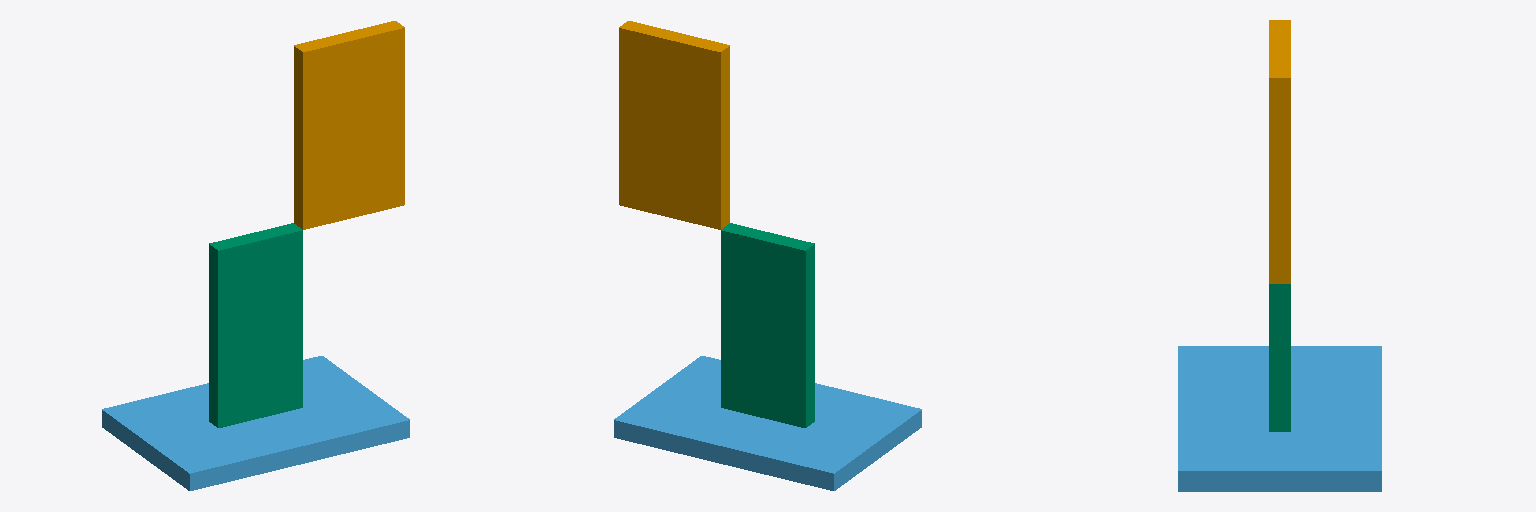
URDF robot description (test5):
<?xml version="1.0" ?>
<robot name="test5">

<material name="silver">
  <color rgba="0.700 0.700 0.700 1.000"/>
</material>

<link name="base_link">
  <inertial>
    <origin xyz="0.0763591487784454 -0.0014896945979451695 -0.023761362030784862" rpy="0 0 0"/>
    <mass value="0.058875"/>
    <inertia ixx="1.2388281250019541e-05" iyy="1.668125000000724e-05" izz="4.538281249999584e-06" ixy="-4.463863632030163e-19" iyz="2.278518628114068e-19" ixz="-8.538092108323347e-19"/>
  </inertial>
  <visual>
    <origin xyz="0 0 0" rpy="0 0 0"/>
    <geometry>
      <mesh filename="meshes/base_link.stl" scale="0.001 0.001 0.001"/>
    </geometry>
    <material name="silver"/>
    <material/>
  </visual>
  <collision>
    <origin xyz="0 0 0" rpy="0 0 0"/>
    <geometry>
      <mesh filename="meshes/base_link.stl" scale="0.001 0.001 0.001"/>
    </geometry>
  </collision>
</link>

<link name="Component51">
  <inertial>
    <origin xyz="1.4877844522337424e-07 3.0540205486415117e-07 -0.002500362030784492" rpy="0 0 0"/>
    <mass value="0.1148062534214929"/>
    <inertia ixx="1.961273553688185e-05" iyy="4.066054929142949e-05" izz="5.979492543905525e-05" ixy="-3.049318610115481e-20" iyz="-3.3881317890172014e-21" ixz="1.0842021724855044e-19"/>
  </inertial>
  <visual>
    <origin xyz="-0.048859 0.00149 0.098761" rpy="0 0 0"/>
    <geometry>
      <mesh filename="meshes/Component51.stl" scale="0.001 0.001 0.001"/>
    </geometry>
    <material name="silver"/>
    <material/>
  </visual>
  <collision>
    <origin xyz="-0.048859 0.00149 0.098761" rpy="0 0 0"/>
    <geometry>
      <mesh filename="meshes/Component51.stl" scale="0.001 0.001 0.001"/>
    </geometry>
  </collision>
</link>

<link name="Component41">
  <inertial>
    <origin xyz="-0.012499851221554809 3.0540205485265863e-07 -0.02500036203078461" rpy="0 0 0"/>
    <mass value="0.049062499999999995"/>
    <inertia ixx="1.032356770833343e-05" iyy="1.2776692708333065e-05" izz="2.657552083333353e-06" ixy="6.860966872759833e-20" iyz="-1.2705494208814505e-20" ixz="-1.0842021724855044e-19"/>
  </inertial>
  <visual>
    <origin xyz="-0.061359 0.00149 0.048761" rpy="0 0 0"/>
    <geometry>
      <mesh filename="meshes/Component41.stl" scale="0.001 0.001 0.001"/>
    </geometry>
    <material name="silver"/>
    <material/>
  </visual>
  <collision>
    <origin xyz="-0.061359 0.00149 0.048761" rpy="0 0 0"/>
    <geometry>
      <mesh filename="meshes/Component41.stl" scale="0.001 0.001 0.001"/>
    </geometry>
  </collision>
</link>

<joint name="Rigid_6" type="fixed">
  <origin xyz="-0.0125 0.0 -0.05" rpy="0 0 0"/>
  <parent link="Component41"/>
  <child link="Component51"/>
</joint>

<joint name="Revolute_8" type="continuous">
  <origin xyz="0.061359 -0.00149 -0.048761" rpy="0 0 0"/>
  <parent link="base_link"/>
  <child link="Component41"/>
  <axis xyz="-0.0 -1.0 0.0"/>
</joint>
<transmission name="Revolute_8_tran">
  <type>transmission_interface/SimpleTransmission</type>
  <joint name="Revolute_8">
    <hardwareInterface>PositionJointInterface</hardwareInterface>
  </joint>
  <actuator name="Revolute_8_actr">
    <hardwareInterface>PositionJointInterface</hardwareInterface>
    <mechanicalReduction>1</mechanicalReduction>
  </actuator>
</transmission>

</robot>

--- Facts derived from the render (not from the file) ---
3 views of the same robot in one strip: view 1: azimuth 30°, elevation 25°; view 2: azimuth 150°, elevation 25°; view 3: azimuth 270°, elevation 25° (orthographic).
Model test5 with 3 links and 2 joints (1 continuous, 1 fixed), rooted at base_link, posed every joint at zero.
Visible links, largest first — view 1: base_link, Component51, Component41; view 2: base_link, Component51, Component41; view 3: Component51, base_link, Component41.
Link boxes in pixels (x1,y1,x2,y2): base_link: (294,21,404,229); Component51: (102,356,409,490); Component41: (209,223,302,427); base_link: (619,21,729,229); Component51: (614,356,921,490); Component41: (721,223,814,427); Component51: (1178,346,1381,491); base_link: (1269,20,1290,283); Component41: (1269,284,1290,431).
Bounding box of the posed robot: 0.075 × 0.045 × 0.105 m (x, y, z).
3 mesh visuals loaded from 3 distinct referenced files (3 binary STL).